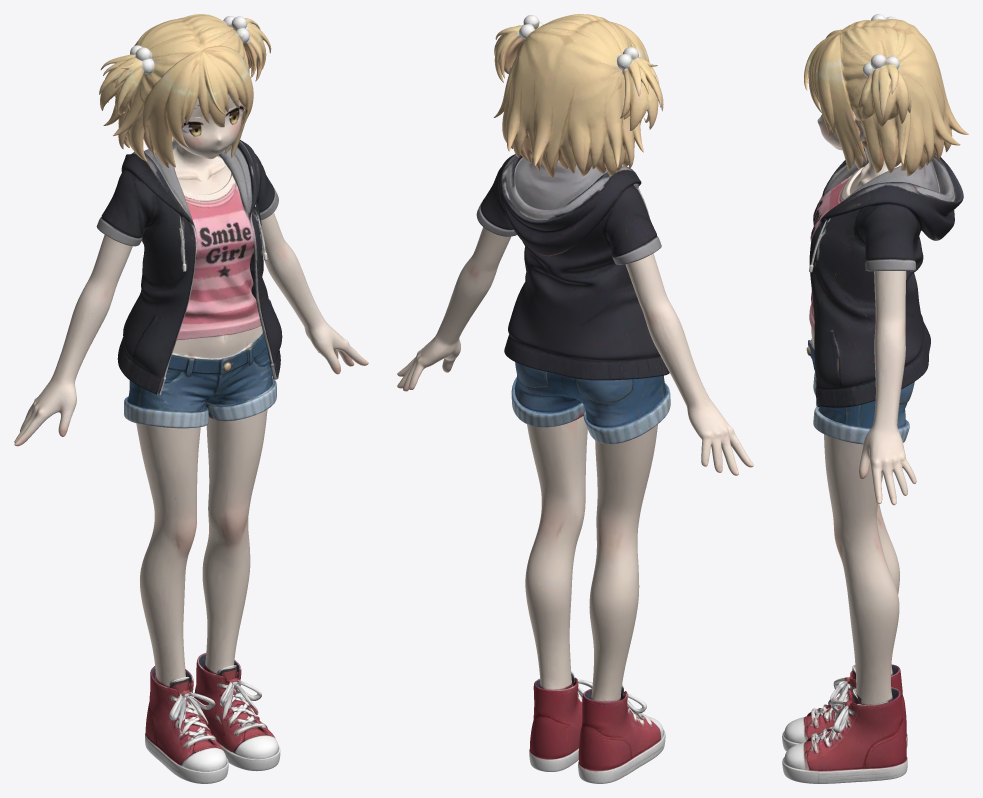
The model's file is sayakamodel.glb.
The picture shows the model from 3 angles, left to right: view 1: azimuth 30°, elevation 25°; view 2: azimuth 150°, elevation 25°; view 3: azimuth 270°, elevation 25°; orthographic projection. The views are drawn at different scales.
Size of the model in its own units: 0.9638 by 1.9 by 0.4386.
Materials: 1 (1 with a texture image).
